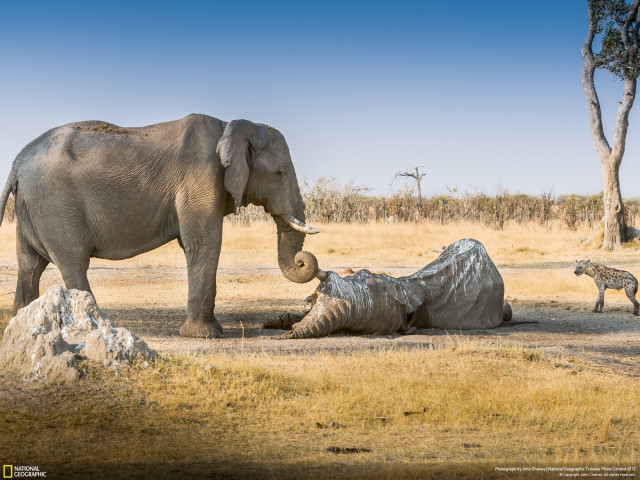elephant: (1, 97, 322, 351)
